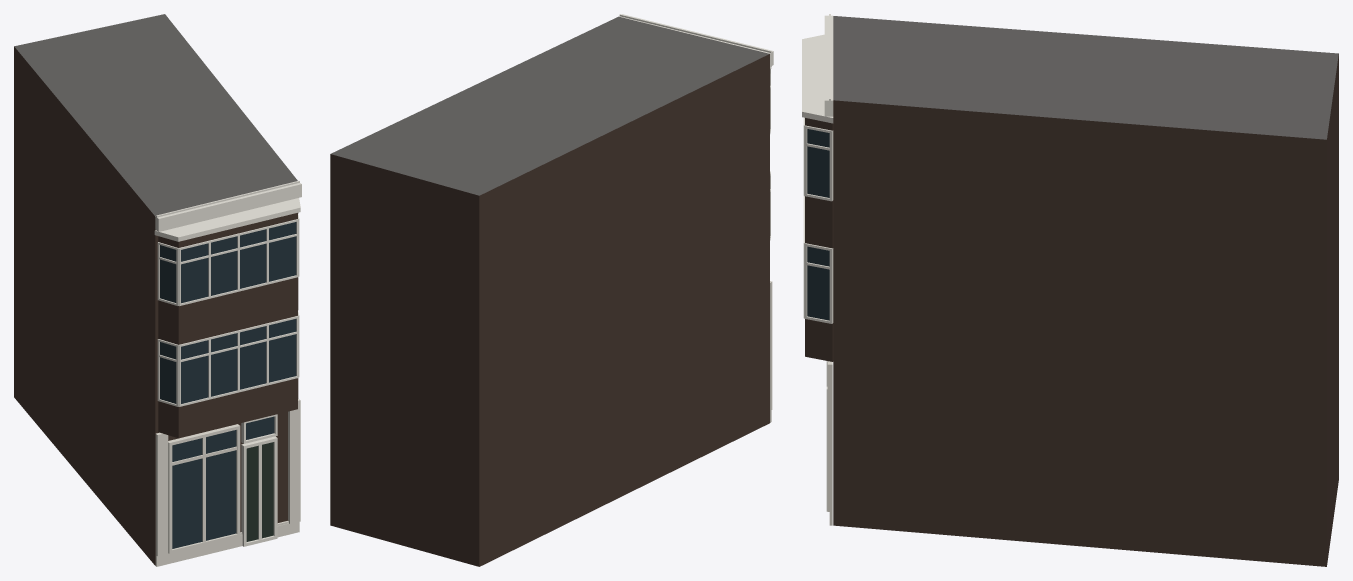
3 views of the same model, side by side, from view 1: azimuth 30°, elevation 25°; view 2: azimuth 150°, elevation 25°; view 3: azimuth 270°, elevation 25° (orthographic). The views are drawn at different scales.
Parts seen in each view (by area): view 1: spec-0363100012170933; view 2: spec-0363100012170933; view 3: spec-0363100012170933.
Boxes of the visible parts, box(x1,y1,x2,y2) form: spec-0363100012170933: box(14, 14, 301, 566); spec-0363100012170933: box(330, 14, 773, 566); spec-0363100012170933: box(802, 14, 1338, 566).
Size of the model in its own units: 5.99 by 9.43 by 10.73.
